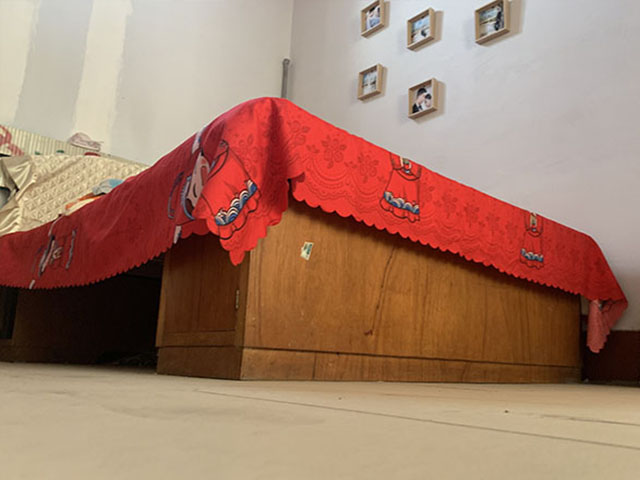bed: (7, 95, 626, 388)
